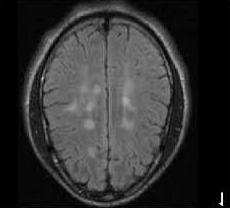Normal_Brain: (1, 1, 230, 208)
